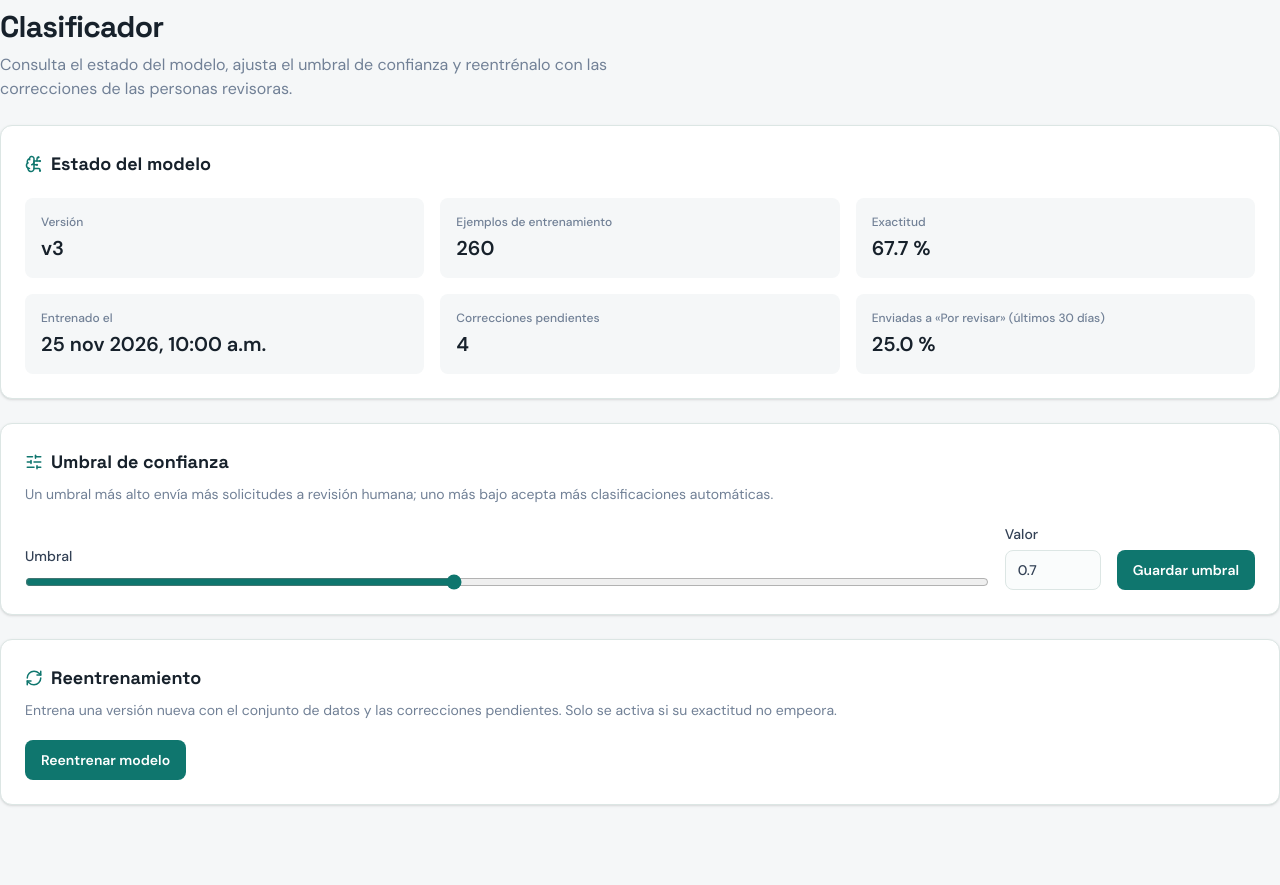
Test: ClasificadorPage (S5-12, HU-02.2, HU-12.1, HU-12.2) › reentrenar muestra cuando la versión nueva no se activó
The width and height of the screenshot is (1280, 885).
Click the button "Reentrenar modelo".
click(106, 760)  # box [25,740,186,780]
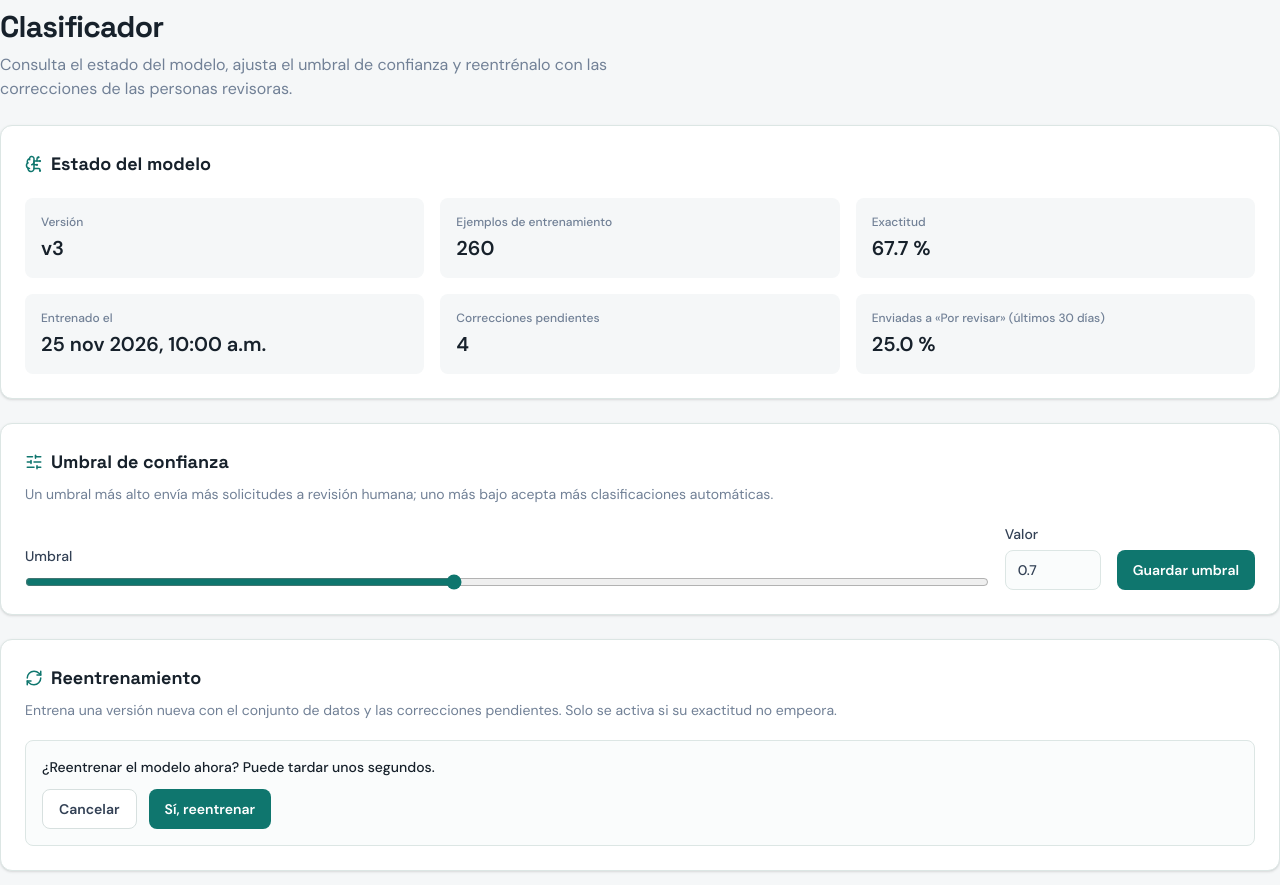
Click the button "Sí, reentrenar".
click(210, 809)  # box [148,789,271,829]
(page scrolled)
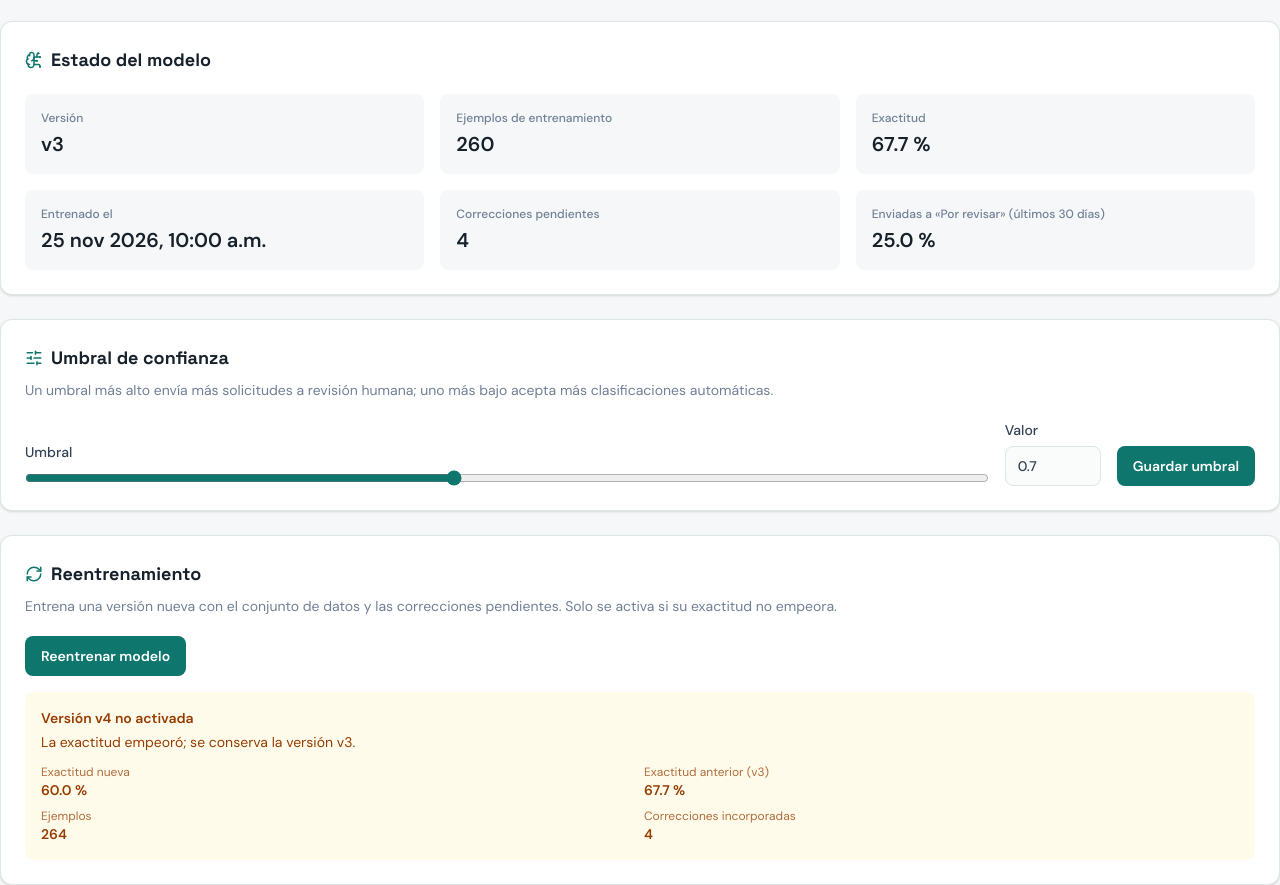
expect the text "Versión v4 no activada" is shown: met, box [41,709,194,727]
expect the text "La exactitud empeoró; se conserva la versión v3." is shown: met, box [41,733,355,751]
expect the text "60.0 %" is shown: met, box [41,781,87,799]
